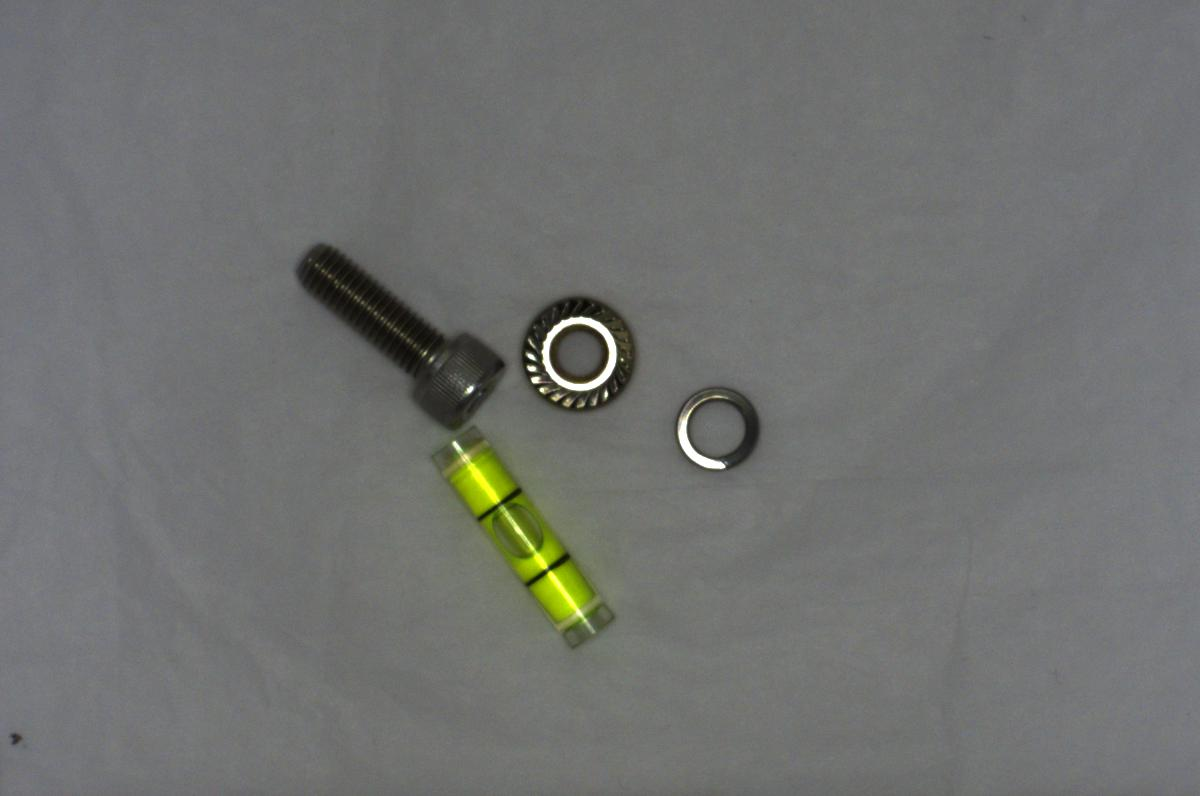Flange nut: (513, 289, 642, 413)
Hexagon screw: (290, 233, 507, 423)
Horizontal bubble: (431, 425, 615, 652)
Spring washer: (667, 381, 766, 482)
